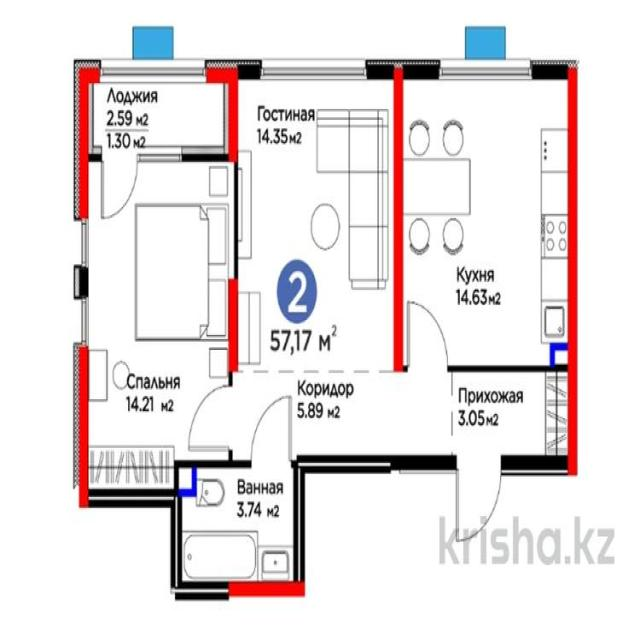balcony: (89, 75, 229, 148)
bathroom: (179, 466, 295, 585)
hallway: (294, 368, 451, 454), (452, 374, 571, 455)
kitchen: (405, 73, 567, 362)
living_room: (238, 80, 396, 357), (90, 160, 224, 445)
